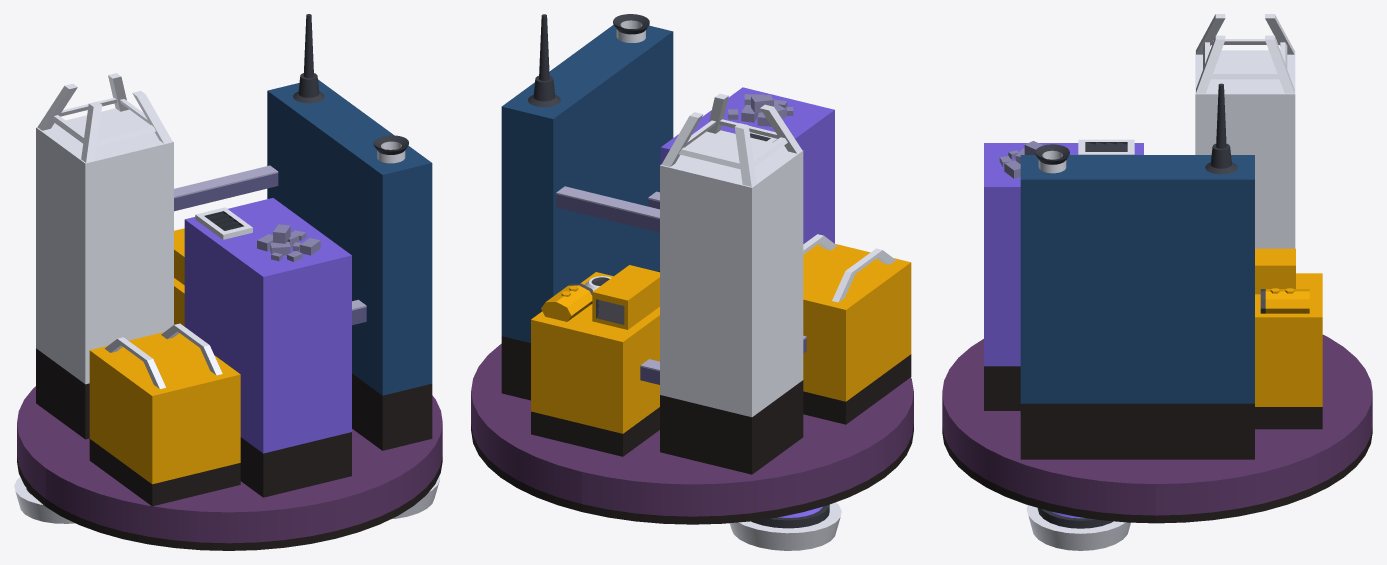
The model's file is housing_piece.obj.
3 views of the same model, side by side, from view 1: azimuth 30°, elevation 25°; view 2: azimuth 150°, elevation 25°; view 3: azimuth 270°, elevation 25° (orthographic). The views are drawn at different scales.
Visible parts, largest first — view 1: mergedBlocks; view 2: mergedBlocks; view 3: mergedBlocks.
Boxes of the visible parts, x1,y1,x2,y2 form: mergedBlocks: (14,14,442,550); mergedBlocks: (471,14,913,550); mergedBlocks: (942,14,1372,550).
Bounding box in the file's own units: 2 × 2.25 × 1.99.
